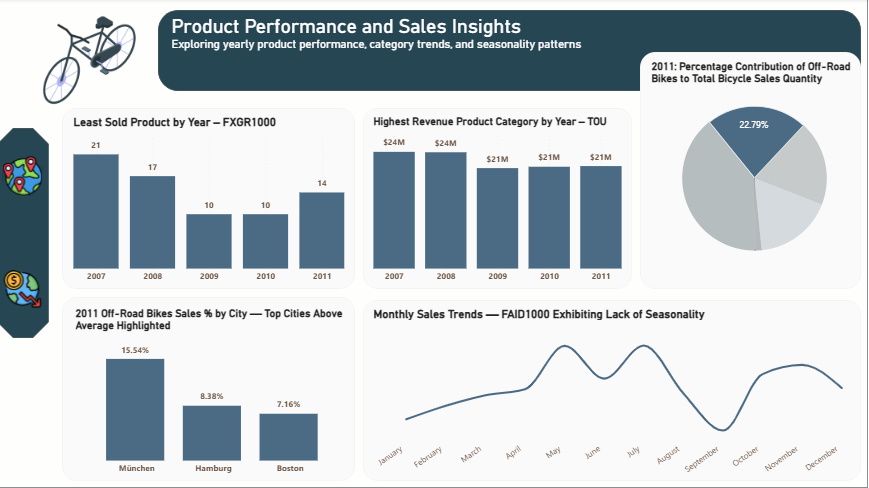

What the dashboard file says about the page in this screenshot:
{"tool":"powerbi","page":{"name":"Product Overview","canvas":[1280,720],"ordinal":2},"visuals":[{"type":"shape","box":[0,0,1279.8,720],"z":0},{"type":"shape","box":[0,191,76.4,308.6],"z":1000},{"type":"shape","box":[236.6,17.6,1033,119],"z":2000},{"type":"image","box":[10,10,251.3,161.6],"z":3000},{"type":"shape","box":[95.5,161.6,430.5,266],"z":4000},{"type":"shape","box":[537.8,161.6,395.3,266],"z":5000},{"type":"shape","box":[944.8,79.3,324.7,348.2],"z":6000},{"type":"shape","box":[95.5,439.3,430.5,270.4],"z":7000},{"type":"shape","box":[537.8,443.8,731.8,266],"z":8000},{"type":"clusteredColumnChart","title":"Least Sold Product by Year – FXGR1000","fields":{"Category":["Calendar.Year"],"Y":["Sum(Fact Table.SalesQuantity)"],"Series":["Product.Product"]},"box":[107.3,171.9,408.5,255.7],"z":9000},{"type":"columnChart","title":"Highest Revenue Product Category by Year – TOU","fields":{"Category":["Calendar.Year"],"Y":["Sum(Fact Table.Revenue USD)"]},"box":[548.1,171.9,374.7,255.7],"z":10000},{"type":"pieChart","title":"2011: Percentage Contribution of Off-Road Bikes to Total Bicycle Sales Quantity","fields":{"Y":["Sum(Fact Table.SalesQuantity)"],"Category":["Product.Product Category"]},"box":[956.6,91.1,313,311.5],"z":11000},{"type":"textbox","box":[1086.3,172.5,61.6,54.6],"z":12000},{"type":"columnChart","title":"2011 Off-Road Bikes Sales % by City — Top Cities Above Average Highlighted","fields":{"Category":["Customer.City"],"Y":["Fact Table.City % of 2011 Total"]},"box":[110.2,454,415.8,255.7],"z":13000},{"type":"lineChart","title":"Monthly Sales Trends — FAID1000 Exhibiting Lack of Seasonality","fields":{"Series":["Product.Product"],"Category":["Calendar.Date.Variation.Date Hierarchy.Month"],"Y":["Sum(Fact Table.Revenue USD)"]},"box":[548.1,454,721.5,266],"z":14000},{"type":"textbox","box":[251.3,19.1,991.8,72],"z":15000},{"type":"actionButton","box":[4.4,392.3,66.1,70],"z":16000},{"type":"actionButton","box":[4.4,226.3,66.1,70.5],"z":17000}]}

Visuals, with their boxes in screenshot pixels (x1, y1, x2, y2), scaled from the page's 1280x720 canvas onto the 869x488 screenshot:
shape: {"x1": 0, "y1": 0, "x2": 868, "y2": 487}
shape: {"x1": 0, "y1": 129, "x2": 52, "y2": 339}
shape: {"x1": 161, "y1": 12, "x2": 862, "y2": 93}
image: {"x1": 7, "y1": 7, "x2": 177, "y2": 116}
shape: {"x1": 65, "y1": 110, "x2": 357, "y2": 290}
shape: {"x1": 365, "y1": 110, "x2": 633, "y2": 290}
shape: {"x1": 641, "y1": 54, "x2": 862, "y2": 290}
shape: {"x1": 65, "y1": 298, "x2": 357, "y2": 481}
shape: {"x1": 365, "y1": 301, "x2": 862, "y2": 481}
"Least Sold Product by Year – FXGR1000" clusteredColumnChart: {"x1": 73, "y1": 117, "x2": 350, "y2": 290}
"Highest Revenue Product Category by Year – TOU" columnChart: {"x1": 372, "y1": 117, "x2": 626, "y2": 290}
"2011: Percentage Contribution of Off-Road Bikes to Total Bicycle Sales Quantity" pieChart: {"x1": 649, "y1": 62, "x2": 862, "y2": 273}
textbox: {"x1": 737, "y1": 117, "x2": 779, "y2": 154}
"2011 Off-Road Bikes Sales % by City — Top Cities Above Average Highlighted" columnChart: {"x1": 75, "y1": 308, "x2": 357, "y2": 481}
"Monthly Sales Trends — FAID1000 Exhibiting Lack of Seasonality" lineChart: {"x1": 372, "y1": 308, "x2": 862, "y2": 487}
textbox: {"x1": 171, "y1": 13, "x2": 844, "y2": 62}
actionButton: {"x1": 3, "y1": 266, "x2": 48, "y2": 313}
actionButton: {"x1": 3, "y1": 153, "x2": 48, "y2": 201}
